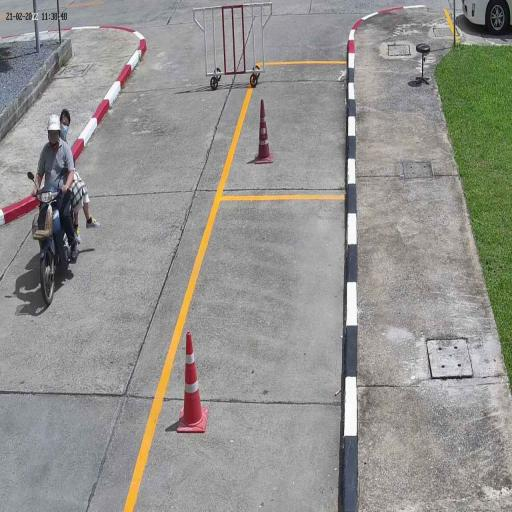motorcycle: (35, 183, 75, 308)
